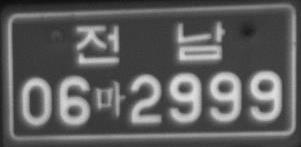0: (20, 77, 52, 126)
2: (131, 73, 162, 125)
6: (58, 74, 91, 125)
9: (167, 71, 202, 124), (208, 70, 242, 123), (250, 69, 283, 121)
마: (95, 79, 125, 117)
전남_D: (75, 21, 226, 64)
